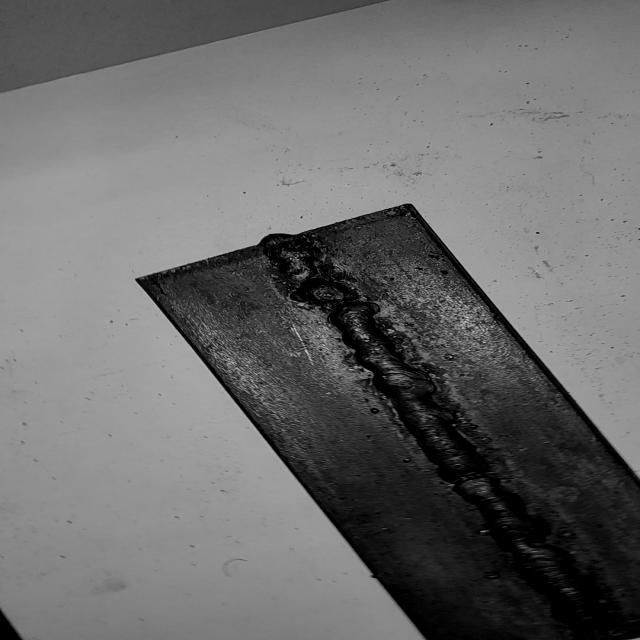Defect: (256, 235, 368, 322)
Welding Line: (264, 231, 640, 640)
Workpiece: (126, 196, 640, 640)
